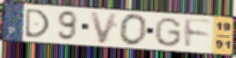9: (56, 10, 79, 42)
D: (24, 8, 51, 39)
F: (183, 17, 214, 50)
G: (153, 17, 183, 49)
O: (118, 13, 149, 47)
V: (88, 11, 119, 45)
